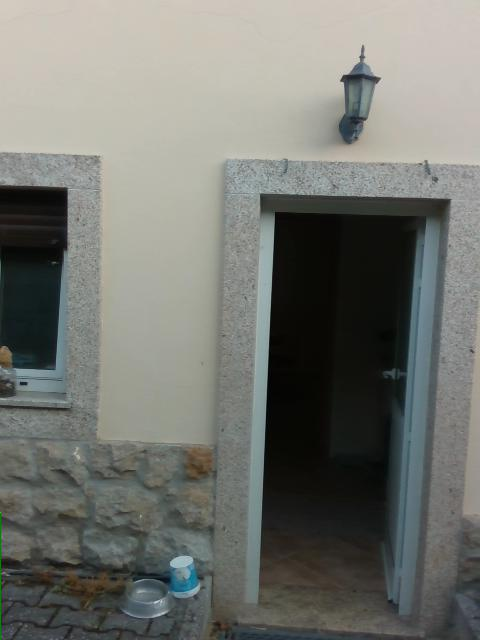open_door: (245, 193, 453, 619)
